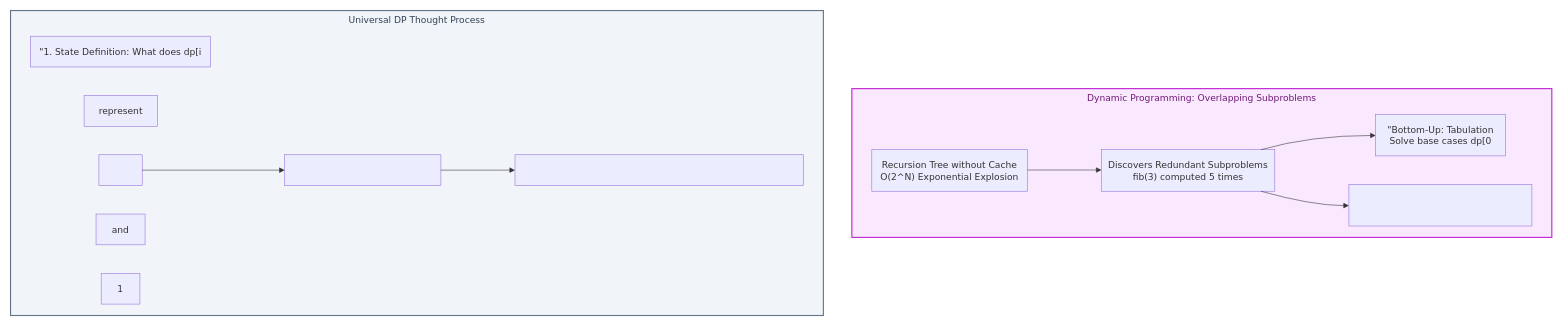
This 1562x325 diagram has some shape labels left out. Each missing label, with the centre of its shape:
"3. Base Cases: What are dp[0: point 362,170
4. Space Optimization: Can we replace array with 2 variables?: point 658,170
S2: point 120,170
Top-Down: Memoization Pass cache/memo map through calls: point 1440,205
